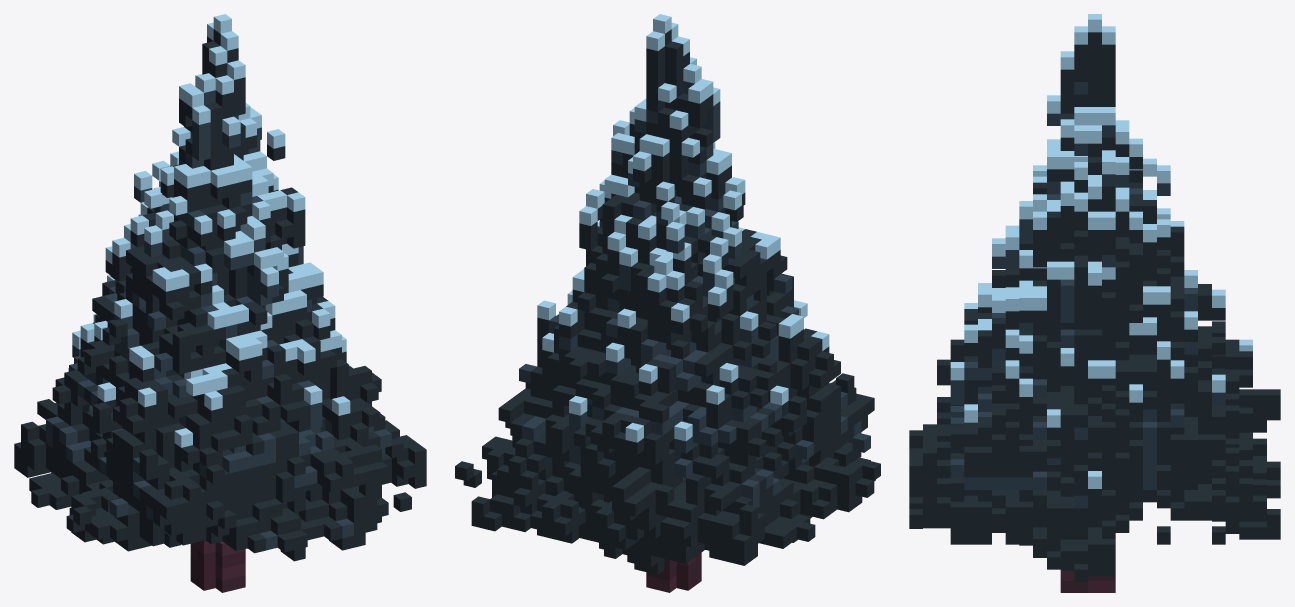
The model's file is Snow_Environment_Deco_Tile_02-6.obj.
3 views of the same model, side by side, from view 1: azimuth 30°, elevation 25°; view 2: azimuth 150°, elevation 25°; view 3: azimuth 270°, elevation 25° (orthographic). The views are drawn at different scales.
Parts seen in each view (by area): view 1: Snow_Environment_Deco_Tile_02-6; view 2: Snow_Environment_Deco_Tile_02-6; view 3: Snow_Environment_Deco_Tile_02-6.
Boxes of the visible parts, bbox=[...] form: Snow_Environment_Deco_Tile_02-6: bbox=[14, 14, 426, 592]; Snow_Environment_Deco_Tile_02-6: bbox=[455, 14, 880, 592]; Snow_Environment_Deco_Tile_02-6: bbox=[909, 14, 1280, 592].
Size of the model in its own units: 27 by 46 by 27.
Materials: 1 (1 with a texture image).
